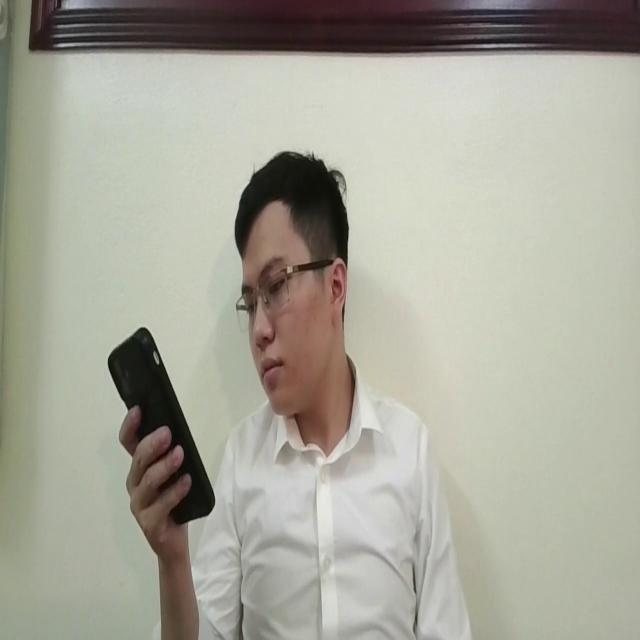phone: (109, 326, 218, 527)
student: (119, 145, 472, 640)
